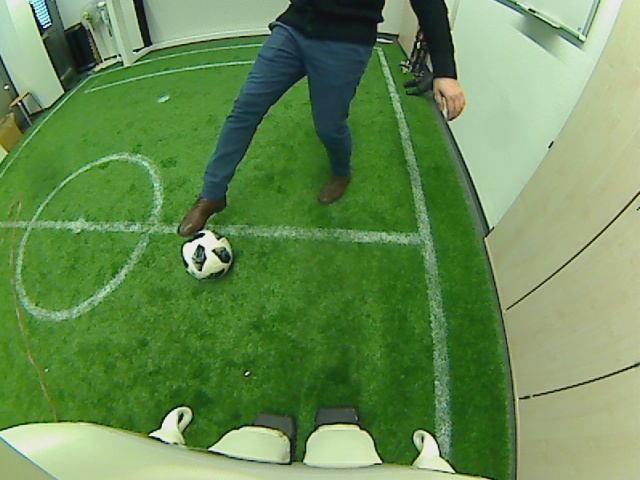ball: (181, 229, 233, 280)
